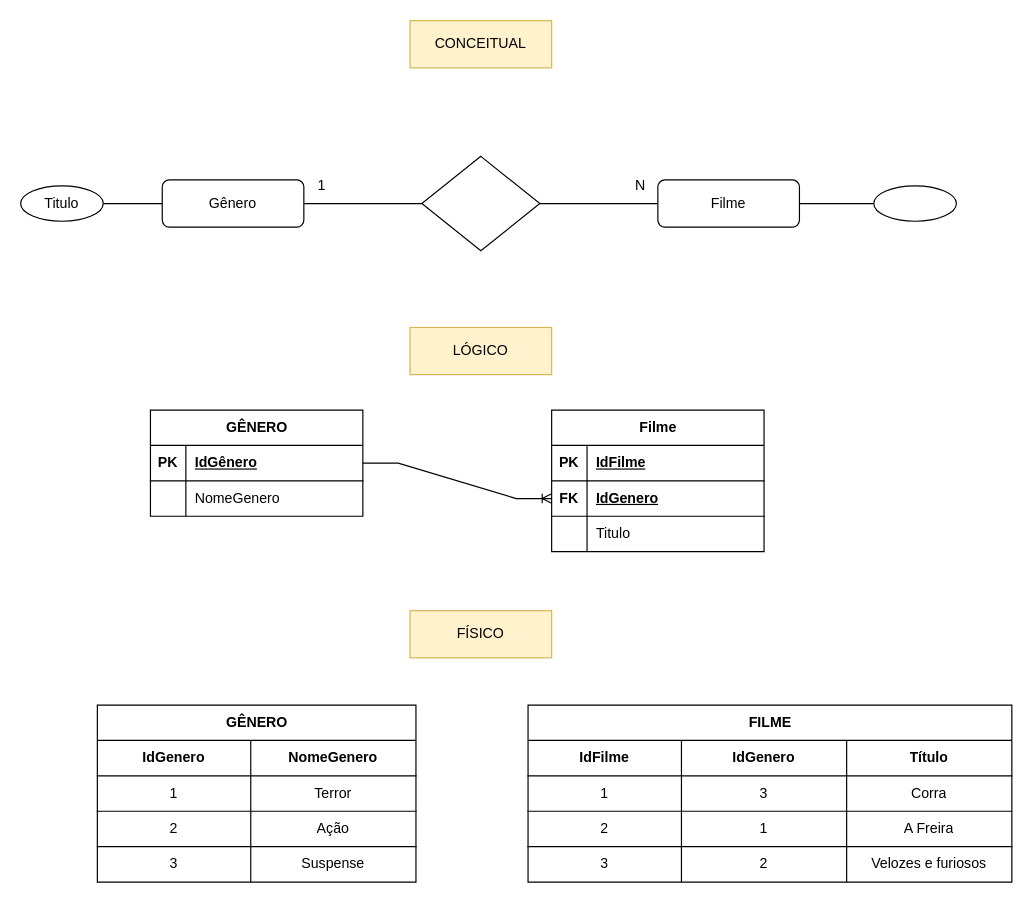
This 1033x903 diagram has some shape labels left out. The shapes that lost their labels are listed below. From the top down, each one's centre as x and y in pixels, then its label:
At point (480, 203): "Possui".
At point (914, 203): "tipo".
